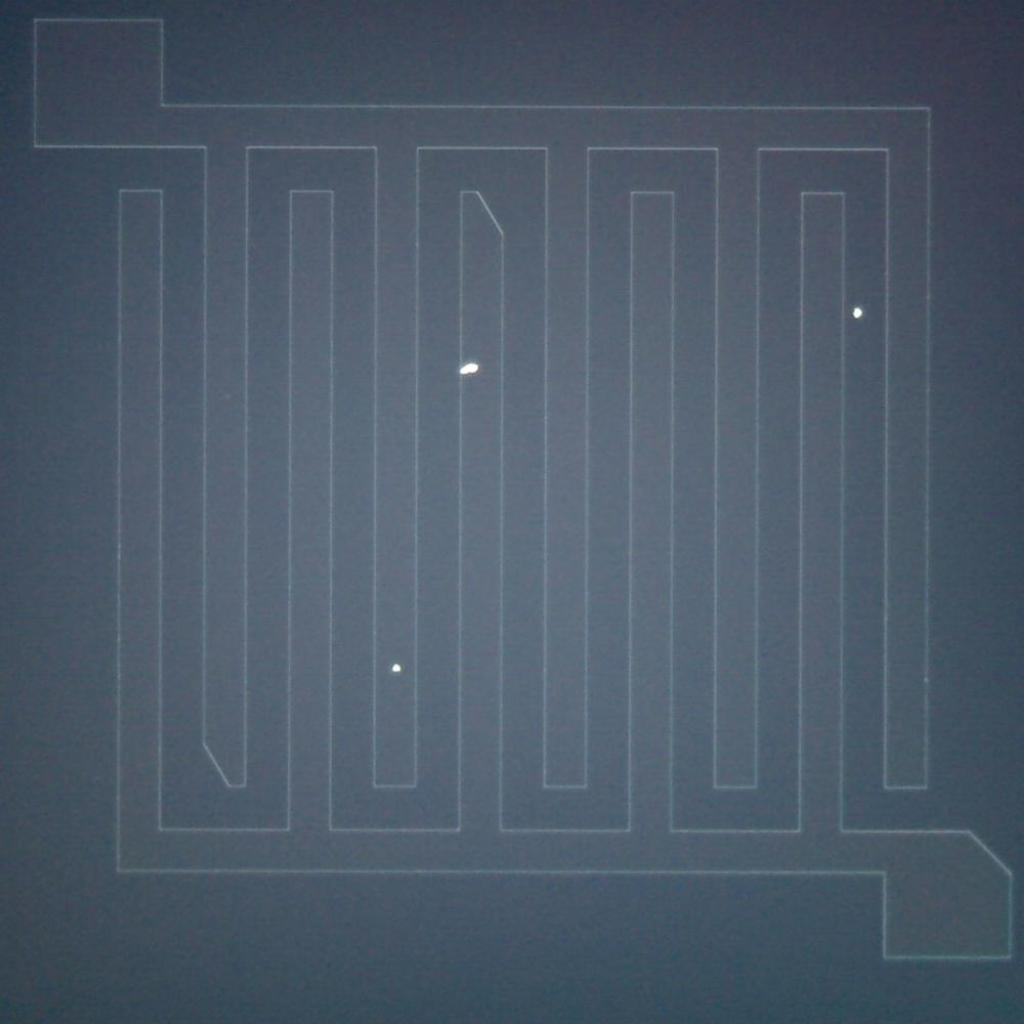dot: (462, 361, 477, 376), (852, 308, 863, 318), (392, 664, 401, 672)
